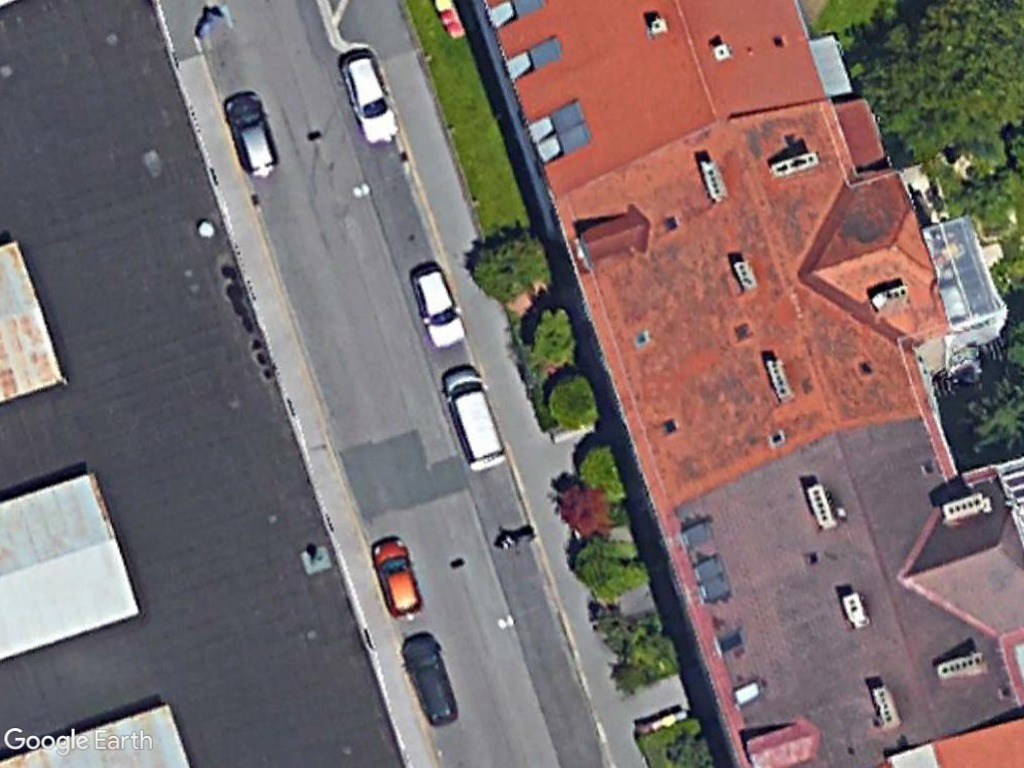car: (337, 45, 400, 151), (219, 89, 284, 185), (398, 627, 457, 730), (366, 532, 429, 623), (407, 264, 468, 354)
van: (438, 362, 512, 477)
